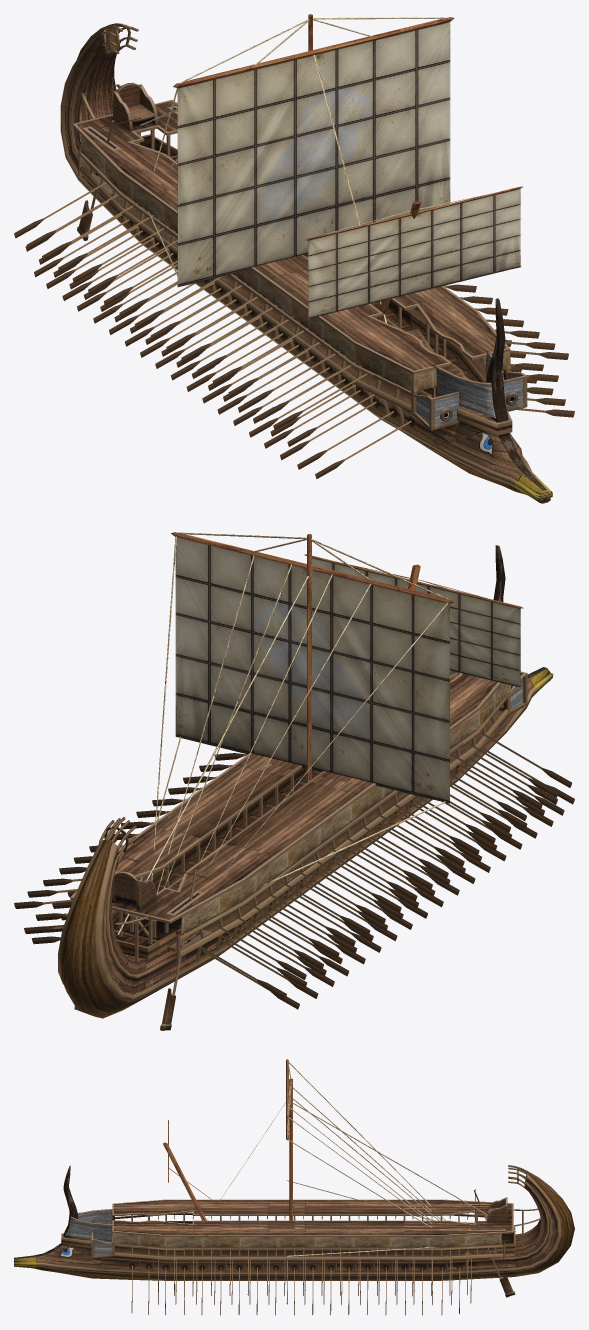
Rendered from trireme.glb.
3 renders of one model, top to bottom at view 1: azimuth 30°, elevation 25°; view 2: azimuth 150°, elevation 25°; view 3: azimuth 270°, elevation 25°, orthographic. The views are drawn at different scales.
Bounding box in the file's own units: 0.4307 × 0.4856 × 1.2.
Materials: 114 (114 with a texture image).
